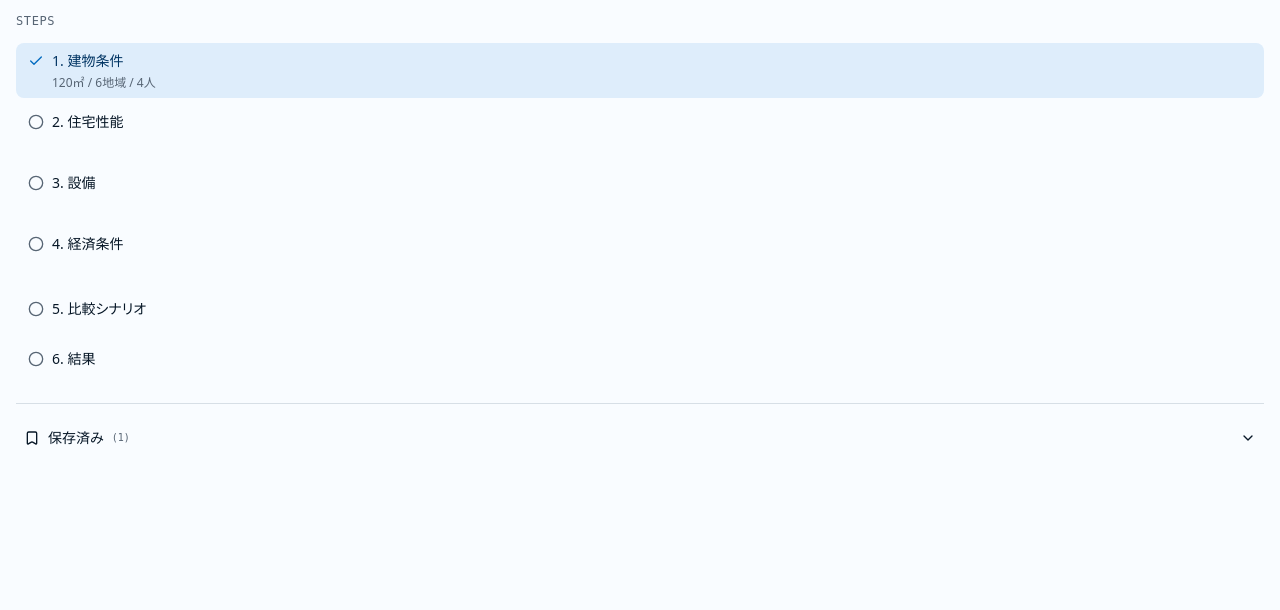
it: TrailSidebar summaries › saved section shows a count once something is saved and opens the list
The width and height of the screenshot is (1280, 610).
Click the button "保存済み (1)" at [76, 438], box [16,416,1264,460]
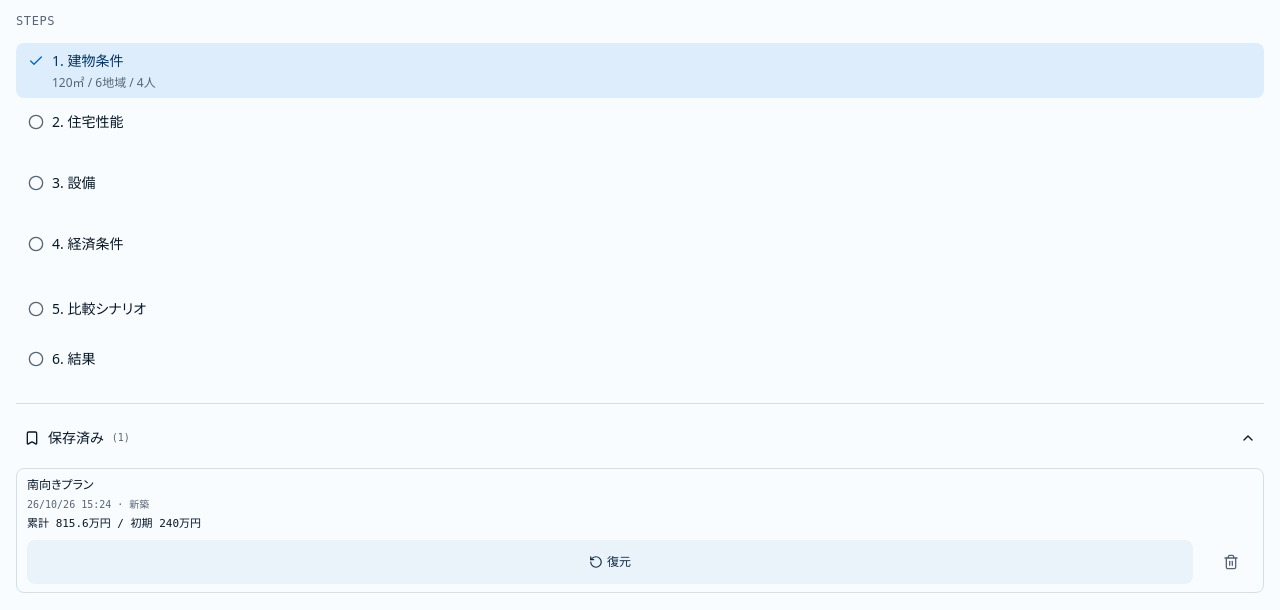
Expected: the button "保存済み (1)" is expanded, [16,416,1264,460]
Expected: the text "南向きプラン" is shown, [27,477,94,492]
